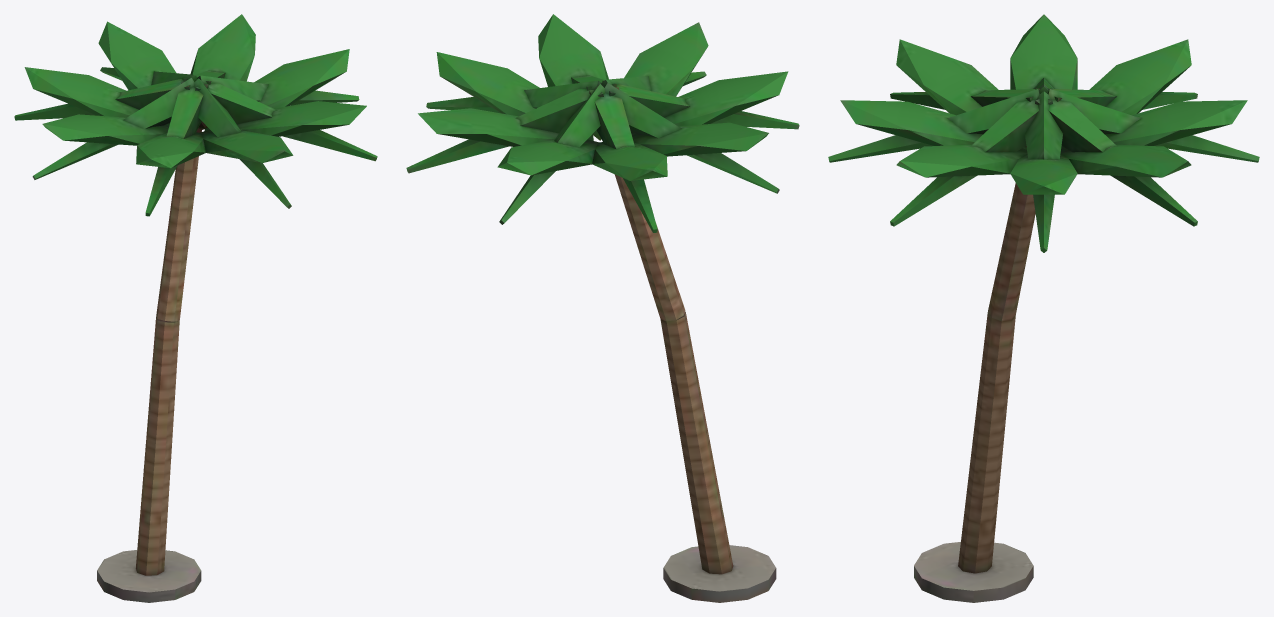
Rendered from palmera_cocos.glb.
The picture shows the model from 3 angles, left to right: view 1: azimuth 30°, elevation 25°; view 2: azimuth 150°, elevation 25°; view 3: azimuth 270°, elevation 25°; orthographic projection. The views are drawn at different scales.
Visible parts, largest first — view 1: palmera_cocos; view 2: palmera_cocos; view 3: palmera_cocos.
Part boxes in pixels (x1,y1,x2,y2): palmera_cocos: [14, 14, 377, 602]; palmera_cocos: [406, 14, 799, 602]; palmera_cocos: [828, 14, 1259, 602].
Size of the model in its own units: 6.49 by 8.87 by 6.49.
1 material, 1 textured.
